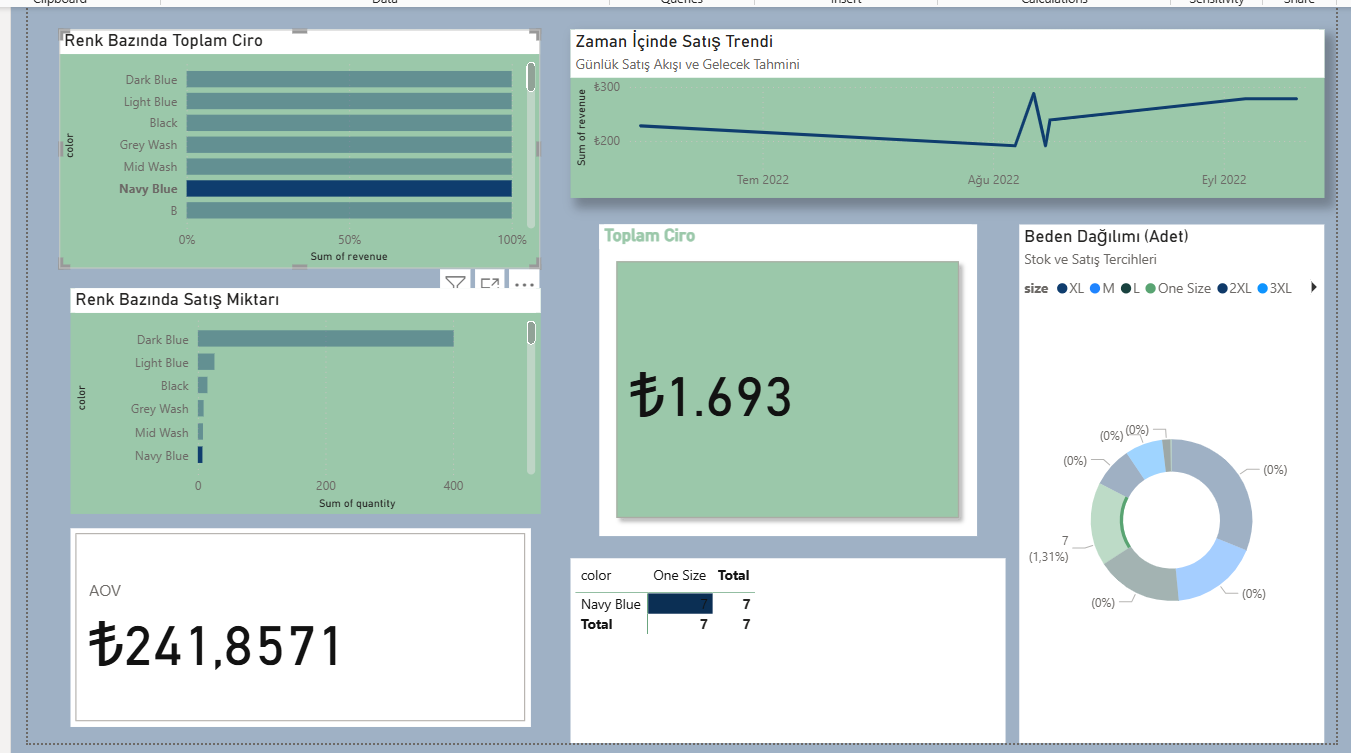

The dashboard page shown, as its layout file describes it:
{"tool":"powerbi","page":{"name":"Page 1","canvas":[1280,720],"ordinal":0},"visuals":[{"type":"cardVisual","title":"Toplam Ciro","fields":{"Data":["Sum(women_clothing_ecommerce_sales.revenue)"]},"box":[558.8,212.8,369.3,304.5],"z":0},{"type":"hundredPercentStackedBarChart","title":"Renk Bazında Toplam Ciro","fields":{"Category":["women_clothing_ecommerce_sales.color"],"Y":["Sum(women_clothing_ecommerce_sales.revenue)"]},"box":[30.6,22,470.8,233.6],"z":1000},{"type":"lineChart","title":"Zaman İçinde Satış Trendi","fields":{"Y":["Sum(women_clothing_ecommerce_sales.revenue)"],"Category":["women_clothing_ecommerce_sales.order_date"]},"box":[530.7,22,737.4,165.1],"z":2000},{"type":"clusteredBarChart","title":"Renk Bazında Satış Miktarı","fields":{"Category":["women_clothing_ecommerce_sales.color"],"Y":["Sum(women_clothing_ecommerce_sales.quantity)"]},"box":[41.6,274.8,459.8,221.2],"z":3000},{"type":"donutChart","title":"Beden Dağılımı (Adet)","fields":{"Category":["women_clothing_ecommerce_sales.size"],"Y":["Sum(women_clothing_ecommerce_sales.quantity)"]},"box":[969.7,212.8,298.4,507.5],"z":4000},{"type":"pivotTable","fields":{"Rows":["women_clothing_ecommerce_sales.color"],"Columns":["women_clothing_ecommerce_sales.size"],"Values":["Sum(women_clothing_ecommerce_sales.quantity)"]},"box":[530.7,539.3,425.5,181],"z":5000},{"type":"cardVisual","fields":{"Data":["women_clothing_ecommerce_sales.AOV"]},"box":[41.6,509.4,450.4,194.4],"z":6000}]}

Visuals, with their boxes in screenshot pixels (x1, y1, x2, y2):
"Toplam Ciro" cardVisual: 590/223/971/537
"Renk Bazında Toplam Ciro" hundredPercentStackedBarChart: 46/26/531/267
"Zaman İçinde Satış Trendi" lineChart: 561/26/1322/196
"Renk Bazında Satış Miktarı" clusteredBarChart: 57/287/531/515
"Beden Dağılımı (Adet)" donutChart: 1014/223/1322/746
pivotTable - women_clothing_ecommerce_sales.color x women_clothing_ecommerce_sales.size: 561/560/1000/746
cardVisual - women_clothing_ecommerce_sales.AOV: 57/529/521/729
